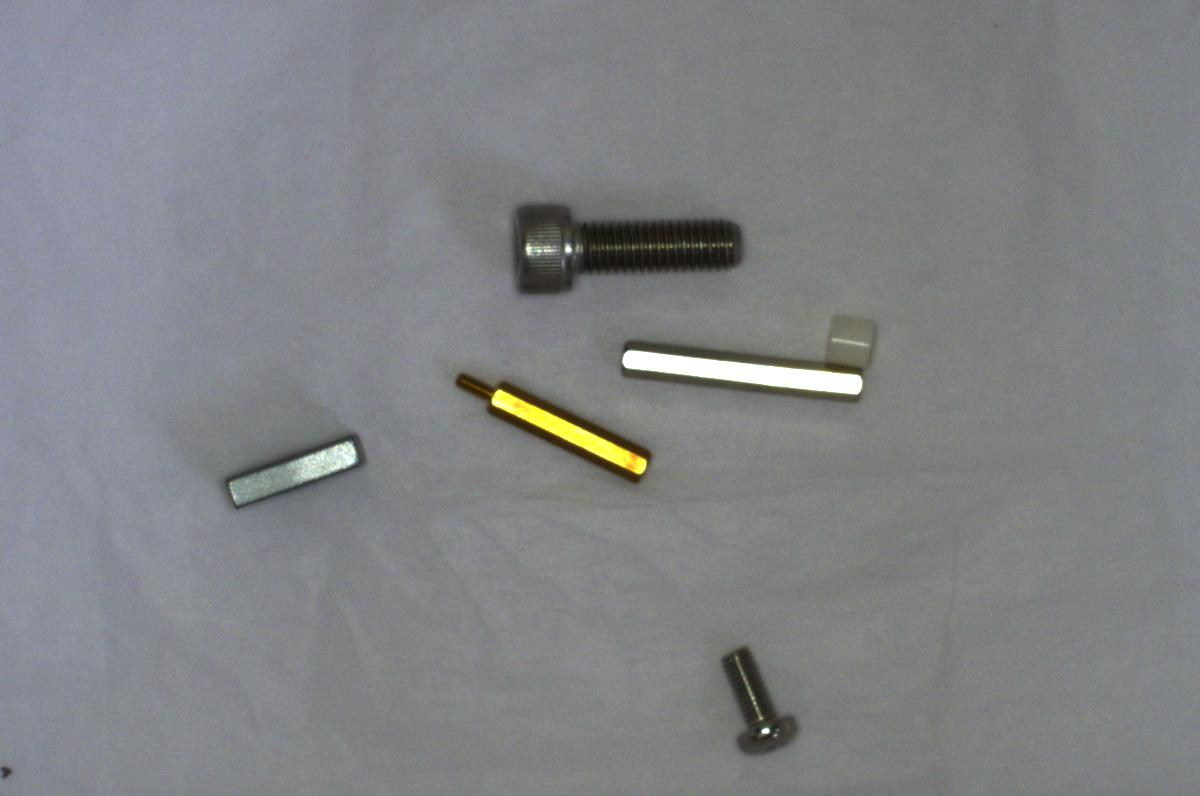Double hexagonal column: (615, 333, 874, 410)
Hexagon pillar: (439, 367, 660, 485)
Hexagon screw: (499, 185, 759, 295)
Plastic cushion pillar: (813, 306, 885, 373)
Rectangular nut: (226, 432, 367, 513)
Round head screw: (704, 636, 812, 766)
